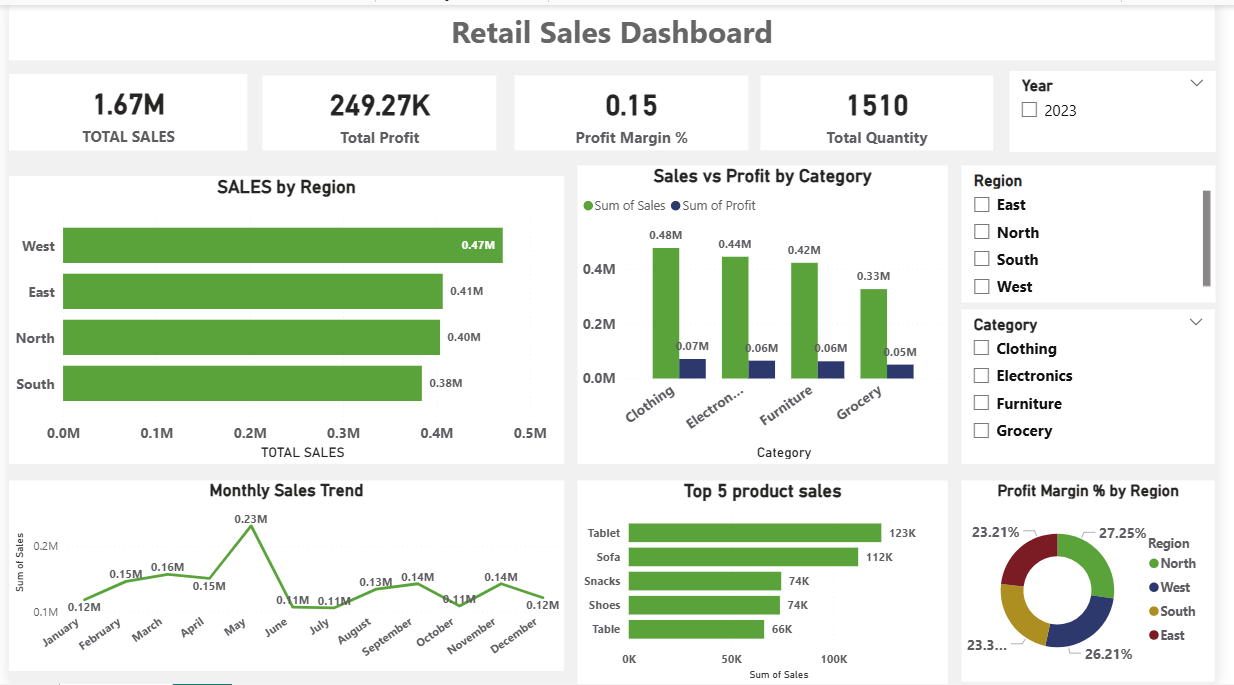

Layout of this report page (visuals, bound fields, positions):
{"tool":"powerbi","page":{"name":"Page 1","canvas":[1280,720],"ordinal":0},"visuals":[{"type":"card","fields":{"Values":["Retail_Sales_Dataset.TOTAL SALES"]},"box":[0,73.2,252.9,81.1],"z":0},{"type":"card","fields":{"Values":["Retail_Sales_Dataset.Total Quantity"]},"box":[796.9,74.8,246.5,79.5],"z":1000},{"type":"card","fields":{"Values":["Retail_Sales_Dataset.Profit Margin %"]},"box":[536,74.8,248.1,79.5],"z":2000},{"type":"card","fields":{"Values":["Retail_Sales_Dataset.Total Profit"]},"box":[268.8,74.8,248.1,79.5],"z":3000},{"type":"barChart","title":"SALES by Region","fields":{"Category":["Retail_Sales_Dataset.Region"],"Y":["Retail_Sales_Dataset.TOTAL SALES"]},"box":[0,181.3,588.5,305.4],"z":4000},{"type":"clusteredColumnChart","title":"Sales vs Profit by Category","fields":{"Category":["Retail_Sales_Dataset.Category"],"Y":["Sum(Retail_Sales_Dataset.Sales)","Sum(Retail_Sales_Dataset.Profit)"]},"box":[602.8,170.2,392.9,316.5],"z":5000},{"type":"lineChart","title":"Monthly Sales Trend","fields":{"Category":["Retail_Sales_Dataset.Date.Variation.Date Hierarchy.Month"],"Y":["Sum(Retail_Sales_Dataset.Sales)"]},"box":[0,504.2,588.5,202],"z":6000},{"type":"barChart","title":"Top 5 product sales","fields":{"Category":["Retail_Sales_Dataset.Product"],"Y":["Sum(Retail_Sales_Dataset.Sales)"]},"box":[602.8,504.2,392.9,216.3],"z":7000},{"type":"donutChart","fields":{"Category":["Retail_Sales_Dataset.Region"],"Y":["Retail_Sales_Dataset.Profit Margin %"]},"box":[1010,504.2,268.8,213.1],"z":8000},{"type":"slicer","fields":{"Values":["Retail_Sales_Dataset.Date.Variation.Date Hierarchy.Year"]},"box":[1060.6,69.6,218.6,85.8],"z":8001},{"type":"slicer","fields":{"Values":["Retail_Sales_Dataset.Region"]},"box":[1010,170.2,268.8,144.7],"z":8002},{"type":"slicer","fields":{"Values":["Retail_Sales_Dataset.Category"]},"box":[1010,322.9,268.8,163.8],"z":8003},{"type":"textbox","box":[0,0,1278.9,58.9],"z":8004}]}

Visuals, with their boxes in screenshot pixels (x1, y1, x2, y2), scaled from the page's 1280x720 canvas onto the 1234x685 screenshot:
card - Retail_Sales_Dataset.TOTAL SALES: x1=0, y1=70, x2=244, y2=147
card - Retail_Sales_Dataset.Total Quantity: x1=768, y1=71, x2=1006, y2=147
card - Retail_Sales_Dataset.Profit Margin %: x1=517, y1=71, x2=756, y2=147
card - Retail_Sales_Dataset.Total Profit: x1=259, y1=71, x2=498, y2=147
"SALES by Region" barChart: x1=0, y1=172, x2=567, y2=463
"Sales vs Profit by Category" clusteredColumnChart: x1=581, y1=162, x2=960, y2=463
"Monthly Sales Trend" lineChart: x1=0, y1=480, x2=567, y2=672
"Top 5 product sales" barChart: x1=581, y1=480, x2=960, y2=684
donutChart - Retail_Sales_Dataset.Region x Retail_Sales_Dataset.Profit Margin %: x1=974, y1=480, x2=1233, y2=682
slicer - Retail_Sales_Dataset.Date.Variation.Date Hierarchy.Year: x1=1022, y1=66, x2=1233, y2=148
slicer - Retail_Sales_Dataset.Region: x1=974, y1=162, x2=1233, y2=300
slicer - Retail_Sales_Dataset.Category: x1=974, y1=307, x2=1233, y2=463
textbox: x1=0, y1=0, x2=1233, y2=56
